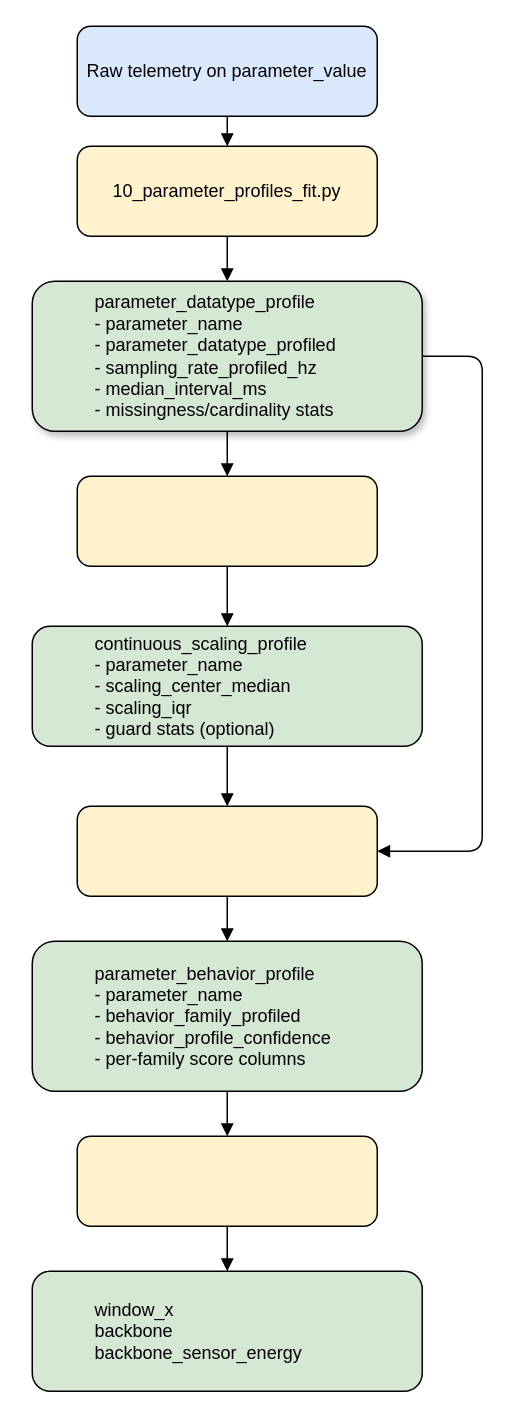
Some shapes in this 521 by 1418 pixel diagram are drawn without their labels. Here are the shapes that lost their labels. From the top down, the centre of each, then its label:
At (226,520): "Continuous robust scaling profile".
At (226,850): "Behavior profiling".
At (226,1180): "Window representation & backbone fitting".
